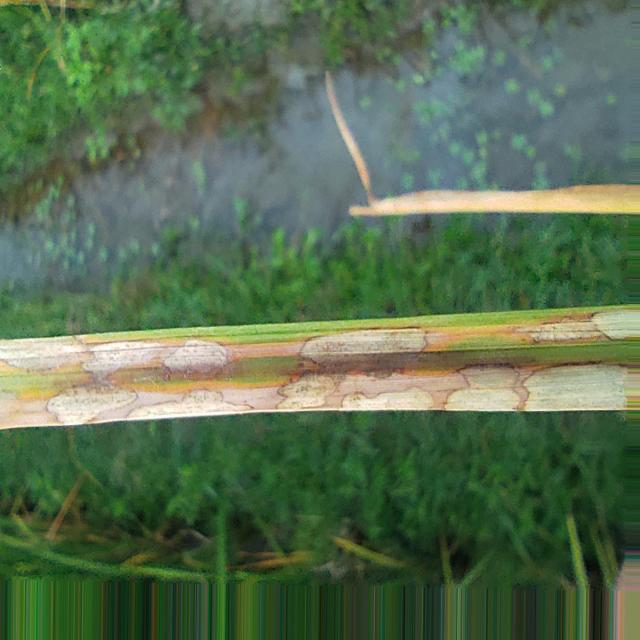Leaf_Blast: (349, 185, 640, 217)
Rice False Smut: (0, 335, 174, 380), (300, 328, 428, 370), (525, 365, 625, 412), (519, 308, 640, 342), (128, 390, 252, 420), (46, 385, 136, 425), (445, 367, 520, 412), (276, 373, 342, 412), (341, 387, 434, 410), (164, 340, 228, 373)
